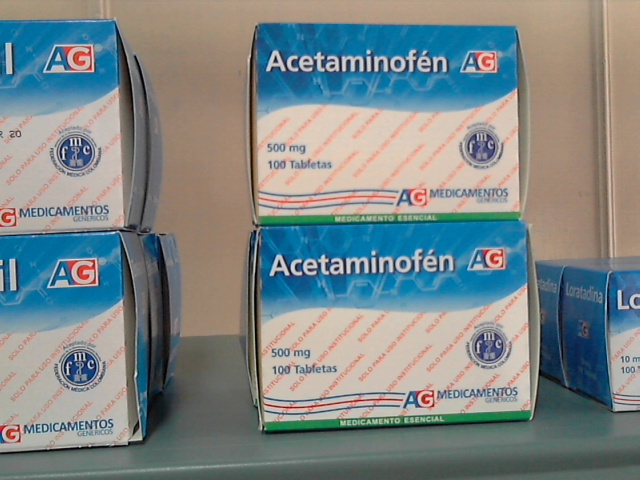AG: (260, 227, 528, 430), (260, 24, 520, 219)
